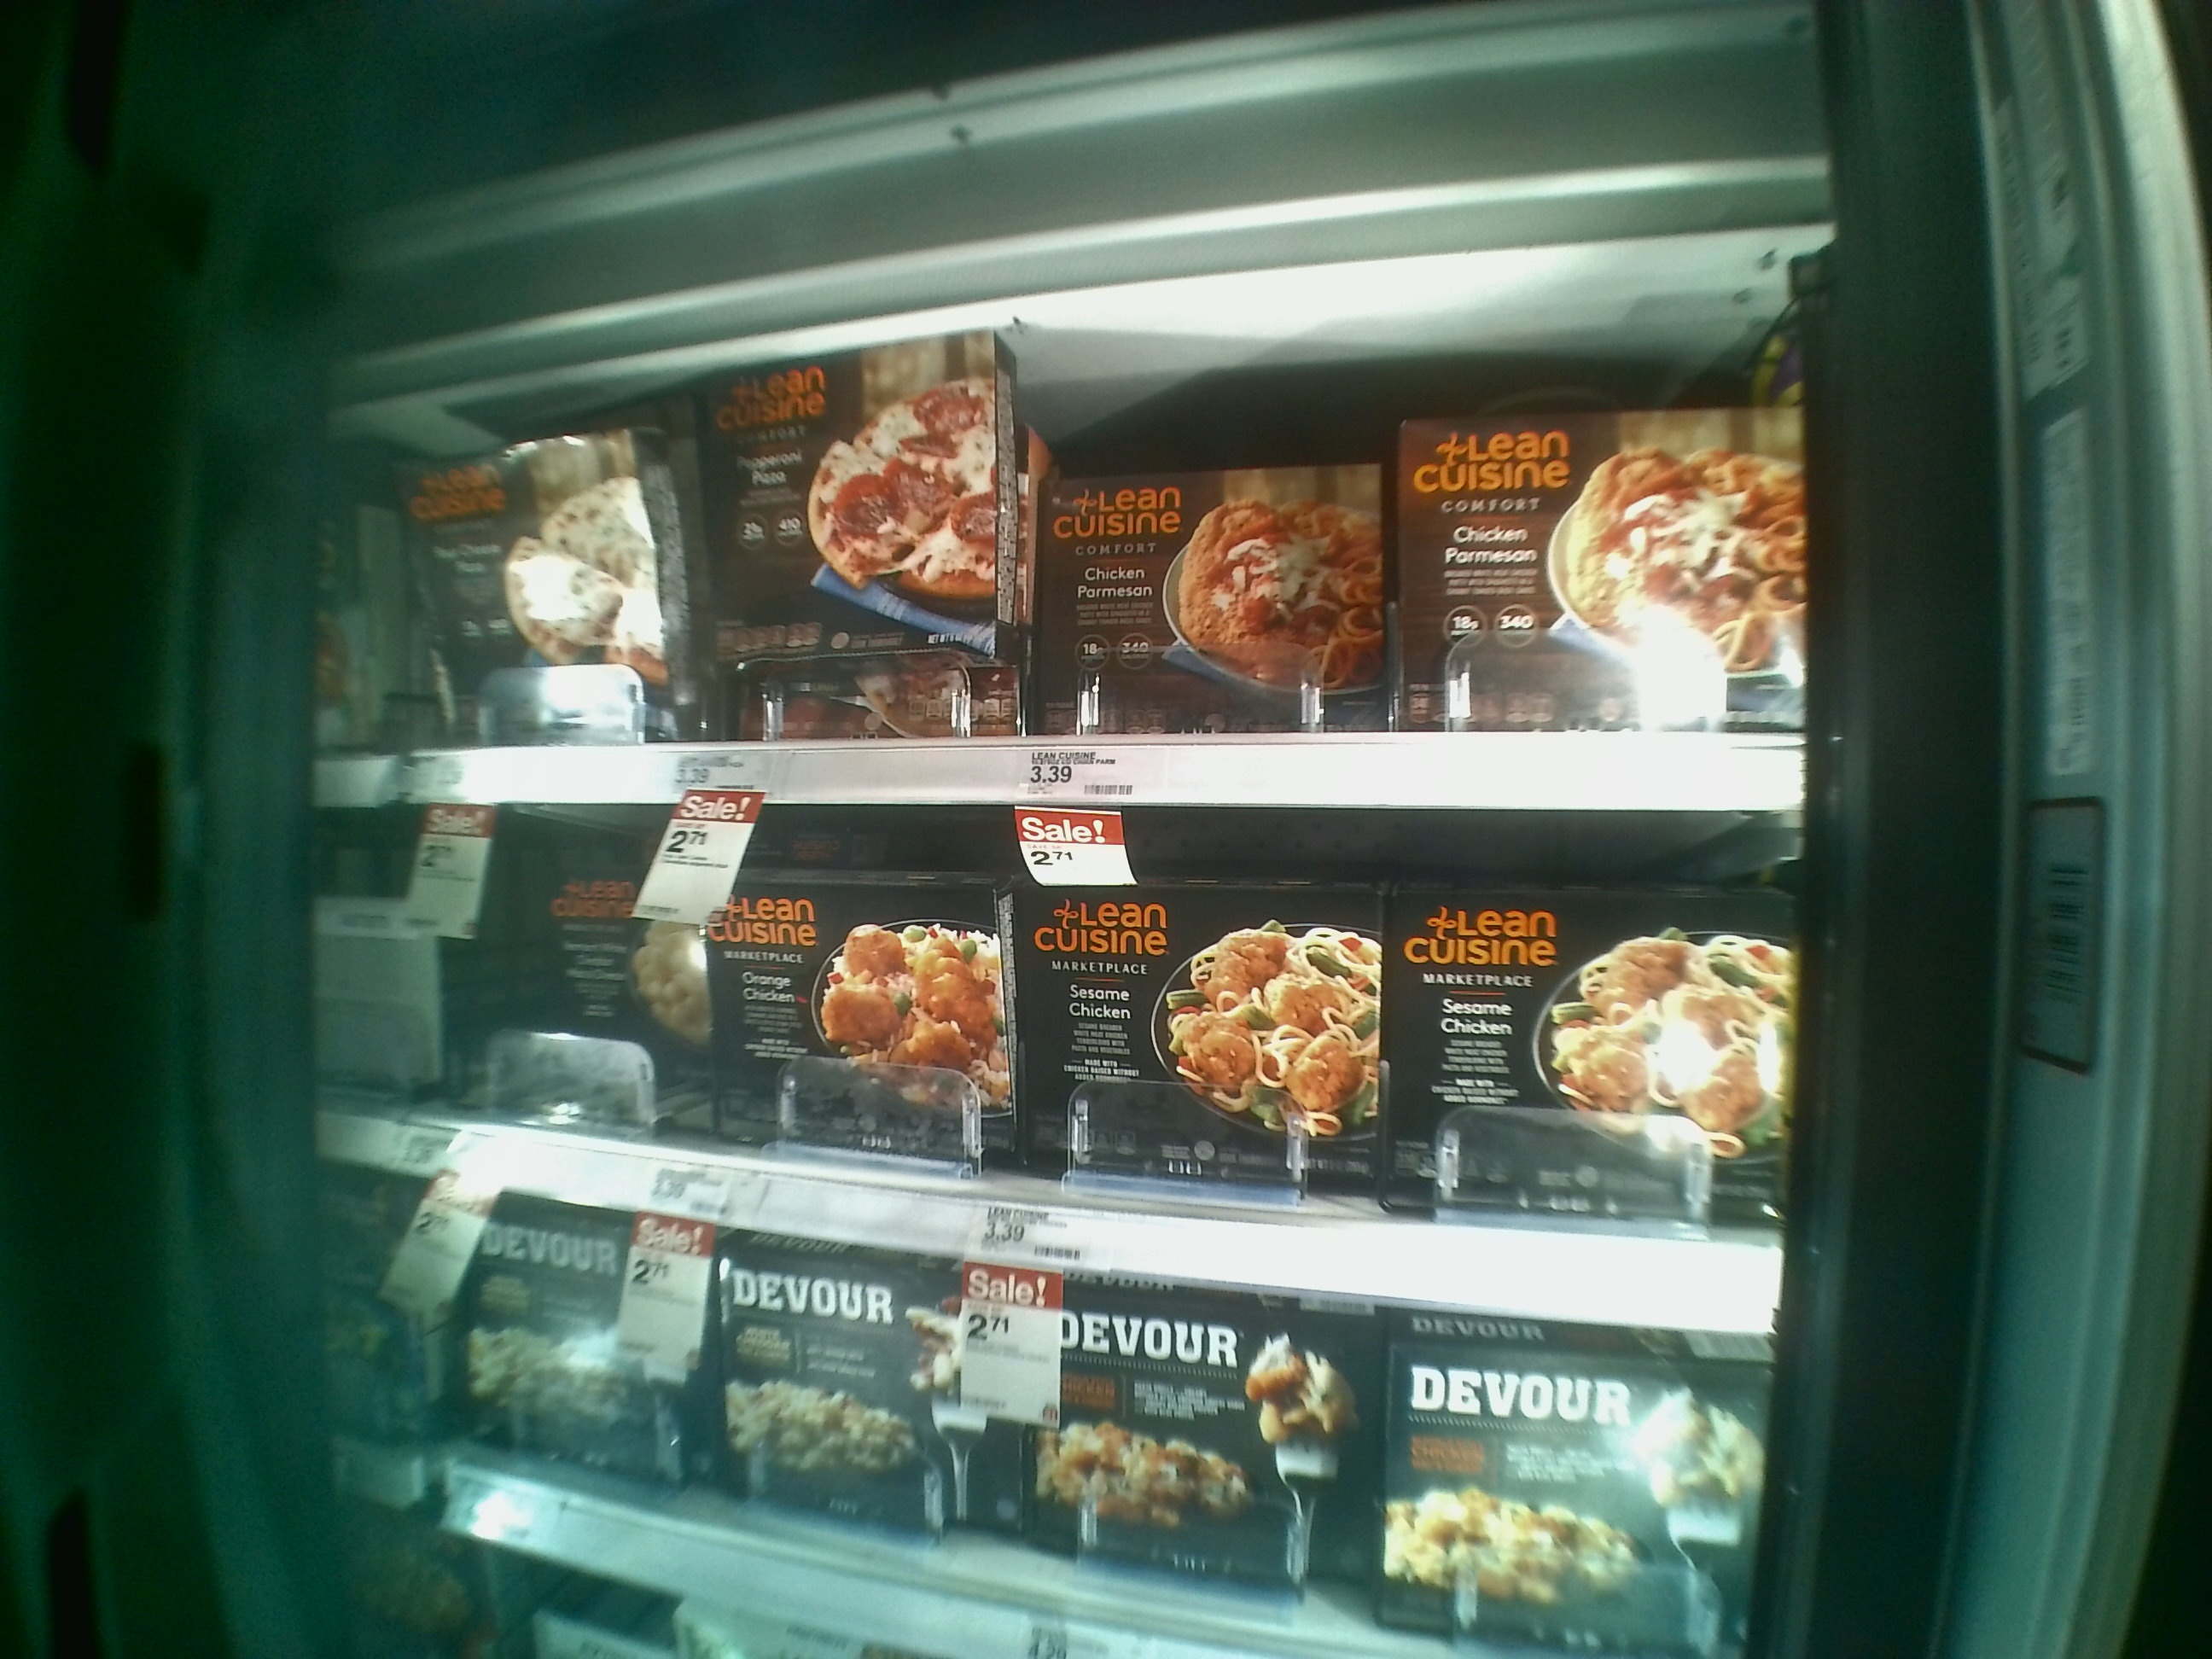shelf: (310, 265, 1799, 798)
